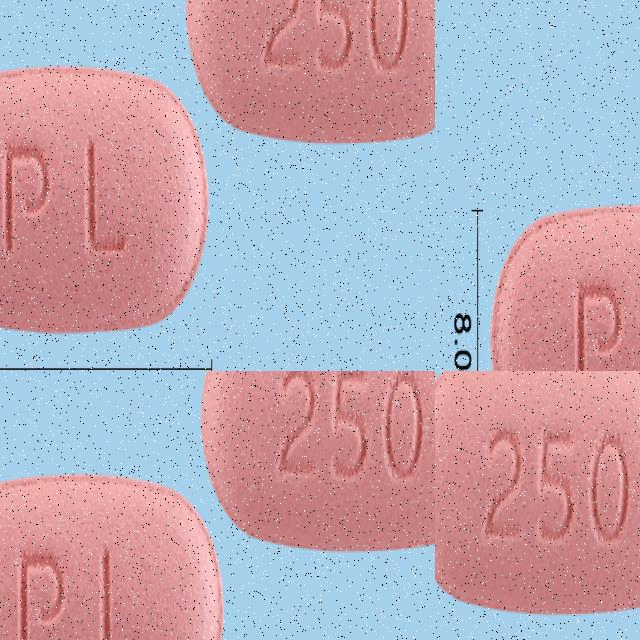Herfam: (200, 0, 435, 339), (0, 0, 163, 336)
Immuthera: (216, 371, 435, 640), (0, 371, 182, 640)
Levoxacin -500mg: (435, 371, 640, 615)
TaeJoon Levofloxacin Tab: (489, 242, 640, 371)
